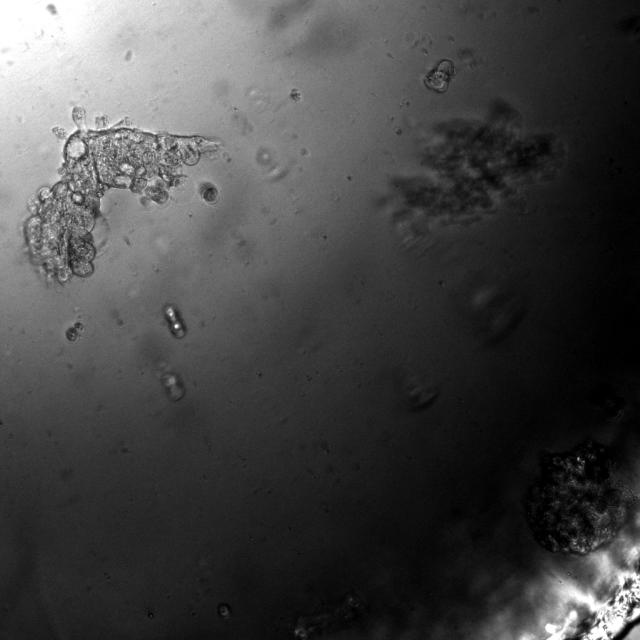organoid: (25, 105, 221, 283), (383, 101, 565, 247), (526, 441, 636, 554), (293, 594, 365, 639), (424, 59, 455, 92), (164, 304, 186, 338), (161, 371, 184, 401), (199, 182, 220, 205), (66, 321, 84, 343), (218, 602, 232, 619)
